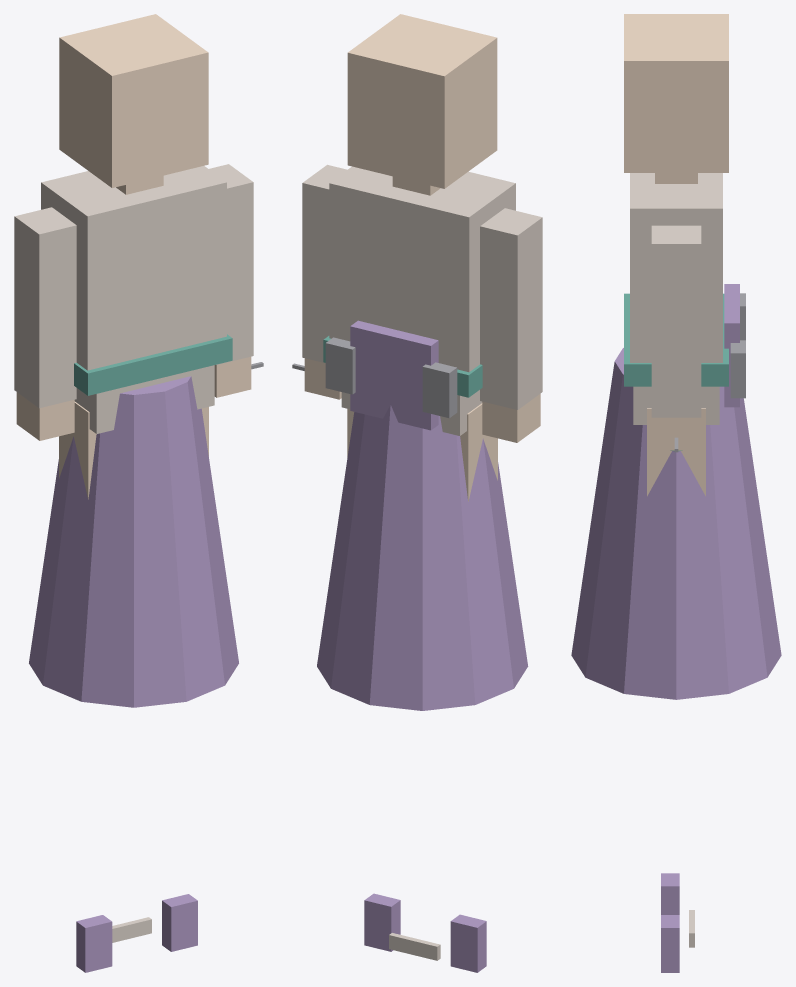
The model's file is penelope.glb.
3 views of the same model, side by side, from view 1: azimuth 30°, elevation 25°; view 2: azimuth 150°, elevation 25°; view 3: azimuth 270°, elevation 25° (orthographic).
Parts seen in each view (by area): view 1: outfit_robe_0, torso, head, arm_L_upper, arm_R_upper, outfit_belt_0, hips, arm_L_hand, outfit_sandals_0, outfit_sandals_1, leg_L_shin, arm_R_hand (+1 smaller); view 2: outfit_robe_0, torso, head, arm_L_upper, outfit_robe_1, arm_R_upper, arm_L_hand, outfit_sandals_0, outfit_belt_2, outfit_sandals_1, leg_L_shin, outfit_belt_1 (+4 smaller); view 3: outfit_robe_0, head, torso, arm_R_upper, outfit_belt_0, leg_R_shin, arm_R_hand, hips, outfit_robe_1, outfit_sandals_1, outfit_belt_1, outfit_sandals_0 (+1 smaller).
Part boxes in pixels (<box>): outfit_robe_0: <box>29,376,238,707</box>; torso: <box>41,166,226,370</box>; head: <box>59,14,208,187</box>; arm_L_upper: <box>14,207,76,408</box>; arm_R_upper: <box>209,164,253,364</box>; outfit_belt_0: <box>74,334,232,395</box>; hips: <box>74,365,214,433</box>; arm_L_hand: <box>16,392,74,440</box>; outfit_sandals_0: <box>76,915,112,972</box>; outfit_sandals_1: <box>162,894,197,951</box>; leg_L_shin: <box>59,401,96,499</box>; arm_R_hand: <box>214,356,251,397</box>; outfit_robe_0: <box>317,405,528,710</box>; torso: <box>329,166,515,372</box>; head: <box>347,14,497,188</box>; arm_L_upper: <box>480,208,542,409</box>; outfit_robe_1: <box>350,320,438,430</box>; arm_R_upper: <box>302,164,346,363</box>; arm_L_hand: <box>482,393,540,442</box>; outfit_sandals_0: <box>450,914,486,972</box>; outfit_belt_2: <box>422,362,457,418</box>; outfit_sandals_1: <box>364,893,400,951</box>; leg_L_shin: <box>460,403,497,501</box>; outfit_belt_1: <box>325,337,355,394</box>; outfit_robe_0: <box>571,348,781,699</box>; head: <box>624,14,728,172</box>; torso: <box>630,173,722,362</box>; arm_R_upper: <box>651,225,701,417</box>; outfit_belt_0: <box>624,293,728,386</box>; leg_R_shin: <box>647,408,705,496</box>; arm_R_hand: <box>653,417,699,450</box>; hips: <box>633,386,719,424</box>; outfit_robe_1: <box>724,284,739,407</box>; outfit_sandals_1: <box>661,915,679,972</box>; outfit_belt_1: <box>730,340,745,398</box>; outfit_sandals_0: <box>661,873,679,914</box>.
Bounding box in the file's own units: 0.88 × 3.24 × 0.68.
